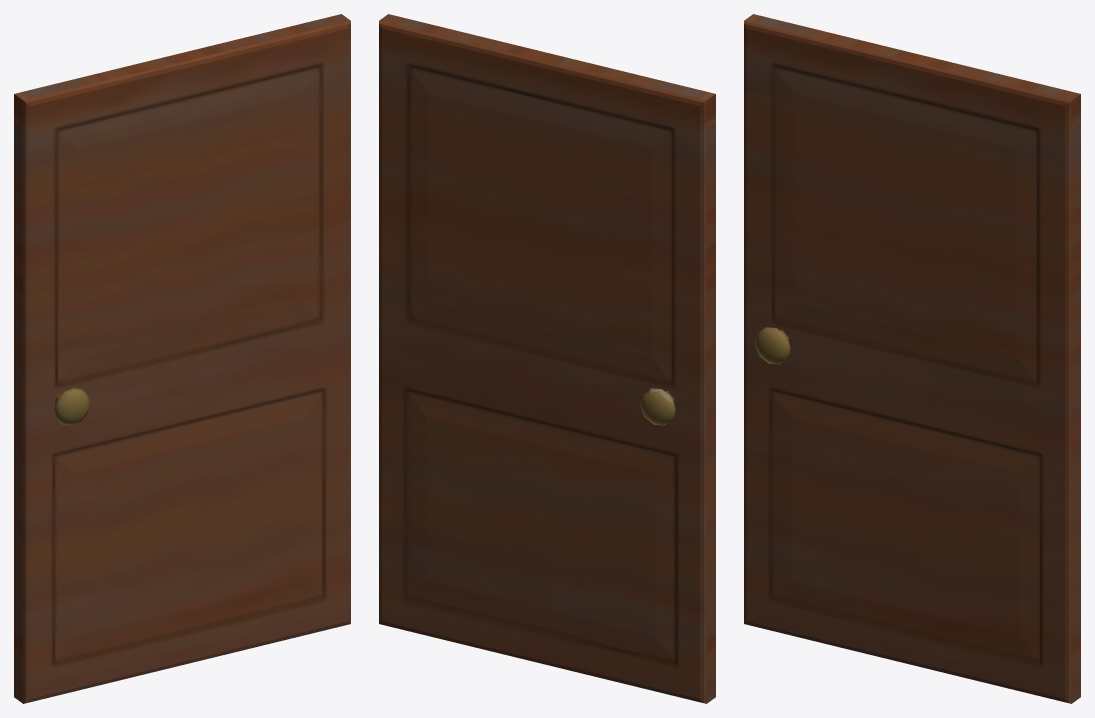
Rendered from Door.fbx.
3 views of the same model, side by side, from view 1: azimuth 30°, elevation 25°; view 2: azimuth 150°, elevation 25°; view 3: azimuth 330°, elevation 25° (orthographic).
Visible parts, largest first — view 1: Puerta; view 2: Puerta; view 3: Puerta.
Boxes of the visible parts, x1,y1,x2,y2 form: Puerta: [14, 14, 350, 703]; Puerta: [379, 14, 715, 703]; Puerta: [744, 14, 1080, 703].
Size of the model in its own units: 119 by 209 by 24.84.
